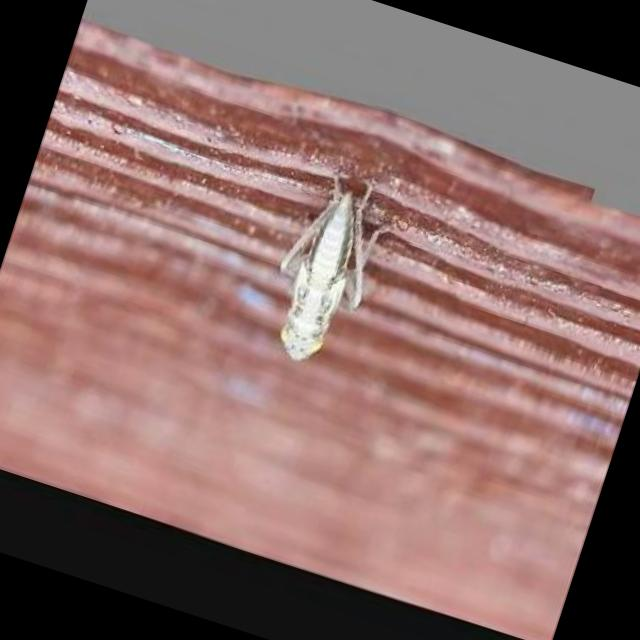green-leafhopper: (246, 158, 404, 383)
